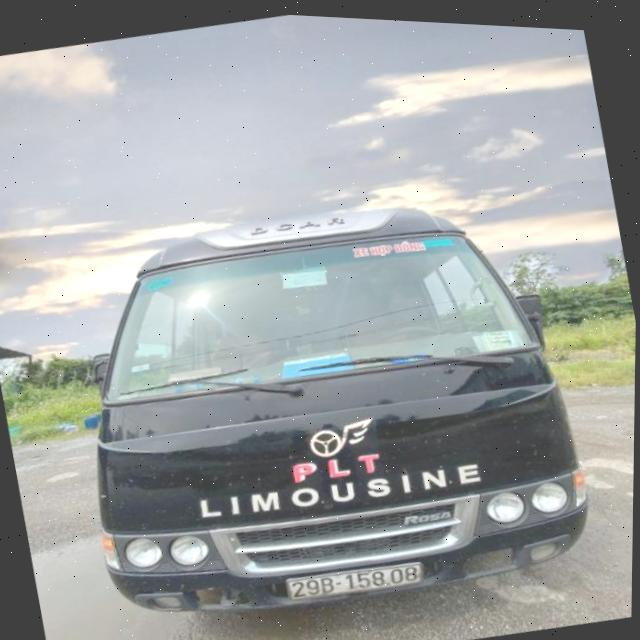car: (42, 118, 605, 640)
plate: (278, 544, 436, 619)
